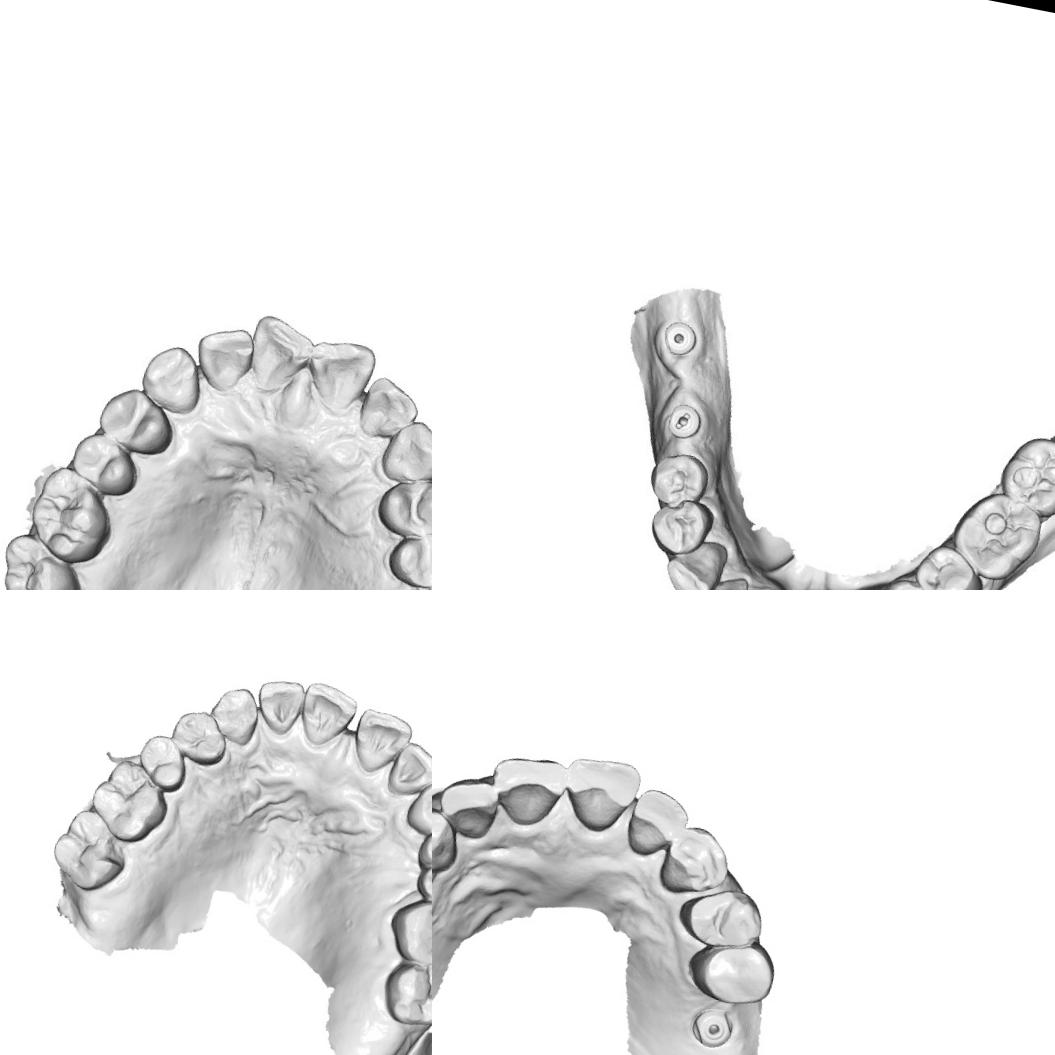canine: (656, 818, 736, 902), (135, 338, 206, 412), (374, 414, 432, 489), (202, 681, 264, 750), (657, 531, 726, 590), (432, 801, 464, 880), (403, 773, 432, 838)
implant: (688, 999, 735, 1052), (656, 314, 702, 362)
implant_minus: (661, 396, 706, 444)
incisor: (554, 748, 644, 840), (484, 747, 570, 832), (242, 310, 318, 402), (618, 780, 698, 864), (302, 334, 378, 419), (187, 320, 260, 398), (353, 372, 424, 446), (348, 706, 418, 780), (432, 768, 501, 840), (294, 678, 361, 751), (249, 674, 310, 740), (383, 737, 432, 801)
molar: (944, 483, 1047, 587), (25, 462, 117, 562), (82, 753, 174, 848), (44, 802, 134, 896), (993, 429, 1055, 524), (0, 529, 89, 590), (376, 948, 432, 1034), (382, 887, 432, 971)
premolar: (682, 936, 776, 1012), (674, 879, 768, 953), (92, 381, 180, 460), (66, 428, 143, 500), (645, 492, 716, 562), (644, 445, 714, 514), (370, 471, 432, 545), (164, 704, 232, 769), (907, 539, 988, 590), (133, 728, 193, 792), (381, 524, 432, 590), (870, 573, 946, 590), (412, 855, 432, 905), (413, 820, 432, 872)
